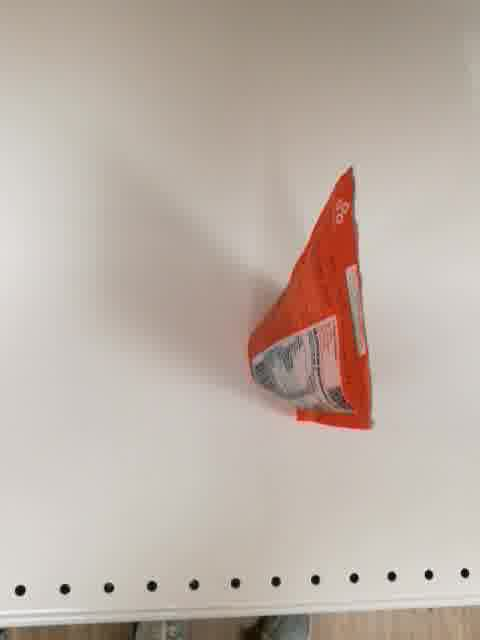whitechia: (245, 165, 375, 436)
